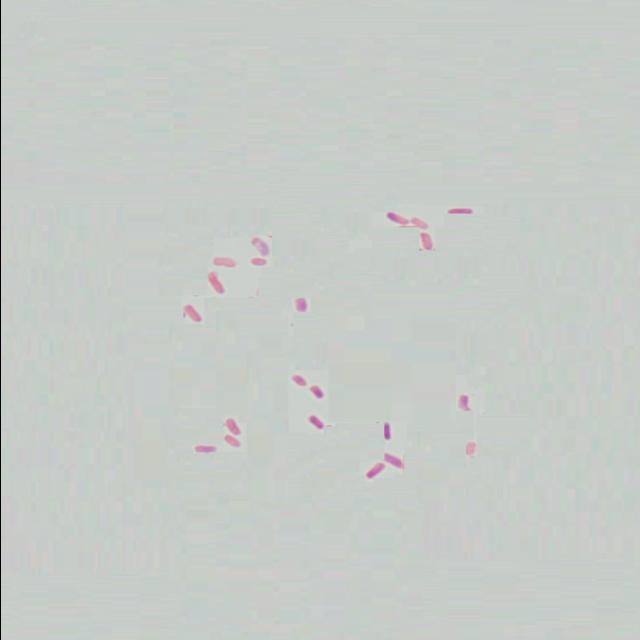E-coli: (200, 274, 225, 295), (247, 236, 273, 256), (300, 413, 328, 431), (380, 209, 406, 227), (414, 233, 438, 251), (445, 204, 475, 218), (209, 254, 237, 268), (179, 306, 199, 325), (219, 417, 241, 433), (286, 372, 308, 388), (362, 464, 384, 480), (377, 422, 393, 443), (451, 394, 473, 409), (458, 440, 478, 456), (191, 445, 217, 457), (408, 217, 432, 230), (289, 296, 309, 311), (310, 384, 326, 402), (220, 436, 242, 449), (383, 454, 403, 468), (250, 257, 270, 269)
